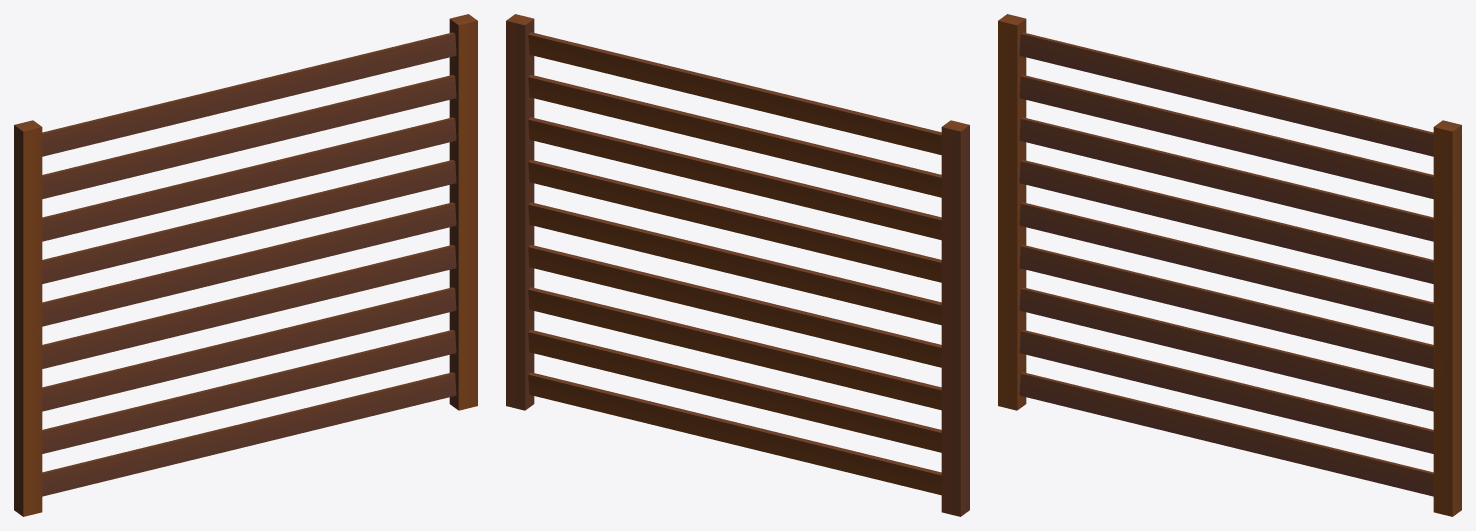
The model's file is B02_facade_latte.fbx.
3 views of the same model, side by side, from view 1: azimuth 30°, elevation 25°; view 2: azimuth 150°, elevation 25°; view 3: azimuth 330°, elevation 25° (orthographic).
Visible parts, largest first — view 1: B02_facade_latte; view 2: B02_facade_latte; view 3: B02_facade_latte.
Part boxes in pixels (box(x1,y1,x2,y2)): B02_facade_latte: box(14, 14, 477, 516); B02_facade_latte: box(506, 14, 969, 516); B02_facade_latte: box(998, 14, 1461, 516).
Size of the model in its own units: 500 by 405 by 17.57.
